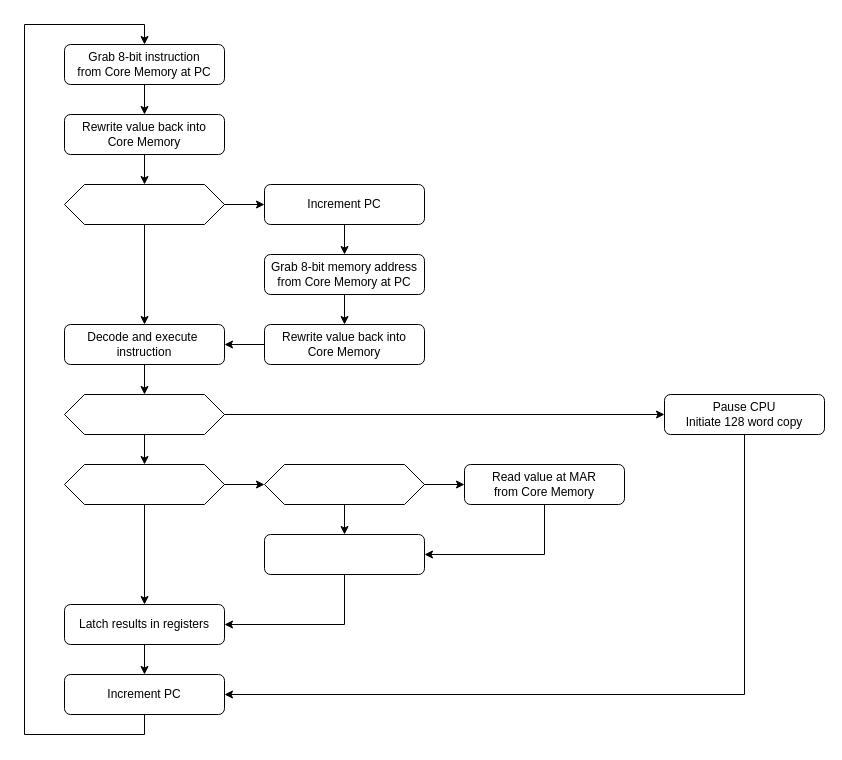
The diagram is 842 pixels wide and 760 high, and some of its shapes have lost their labels. Each missing label, with the centre of its shape:
"Drum access right Else down" belongs at point (144, 414).
"If Bit 7 set to right Else down" belongs at point (144, 204).
"Memory access right Else down" belongs at point (144, 484).
"Memory read right Memory write down" belongs at point (344, 484).
"Rewrite old value Or write new value into Core" belongs at point (344, 554).
